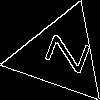Z: (35, 30, 91, 74)
